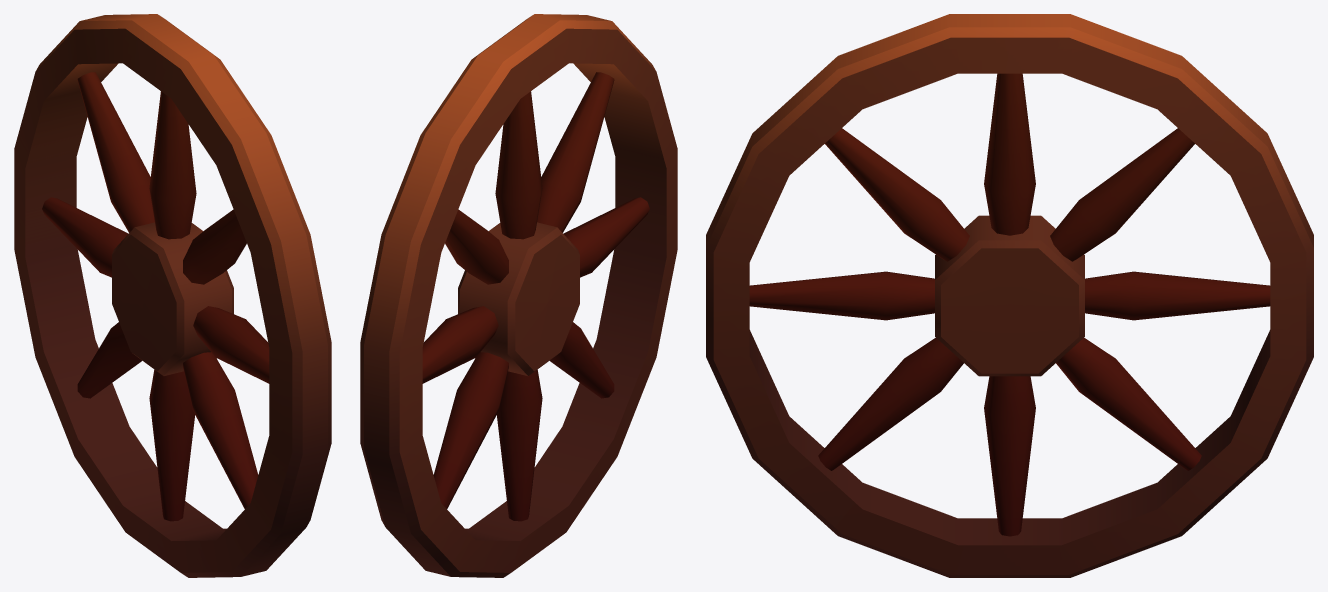
Rendered from wheel.fbx.
The picture shows the model from 3 angles, left to right: view 1: azimuth 30°, elevation 25°; view 2: azimuth 150°, elevation 25°; view 3: azimuth 270°, elevation 25°; orthographic projection. The views are drawn at different scales.
Visible parts, largest first — view 1: wheel; view 2: wheel; view 3: wheel.
Boxes of the visible parts, box(x1,y1,x2,y2) form: wheel: box(14, 14, 331, 577); wheel: box(360, 14, 677, 577); wheel: box(706, 14, 1313, 577).
Size of the model in its own units: 0.0972 by 0.8327 by 0.8327.
